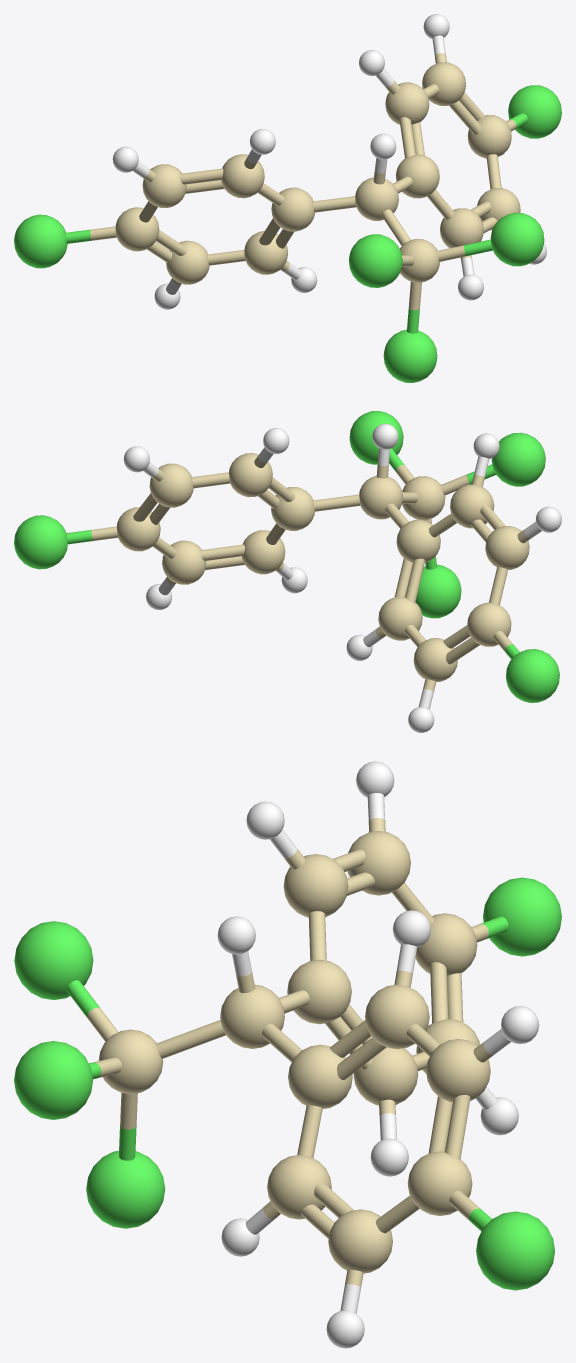
File: Clofenotane.glb
The picture shows the model from 3 angles, top to bottom: view 1: azimuth 30°, elevation 25°; view 2: azimuth 150°, elevation 25°; view 3: azimuth 270°, elevation 25°; orthographic projection. The views are drawn at different scales.
Parts seen in each view (by area): view 1: atoms, sticks, hydrogen; view 2: atoms, sticks, hydrogen; view 3: atoms, sticks, hydrogen.
Boxes of the visible parts, x1,y1,x2,y2 form: atoms: (14,62,561,382); sticks: (65,35,527,333); hydrogen: (112,14,546,309); atoms: (14,411,559,702); sticks: (66,447,541,709); hydrogen: (123,423,561,732); atoms: (14,831,561,1290); sticks: (66,793,510,1313); hydrogen: (217,761,539,1348).
Bounding box in the file's own units: 10.94 × 4.72 × 6.6.
